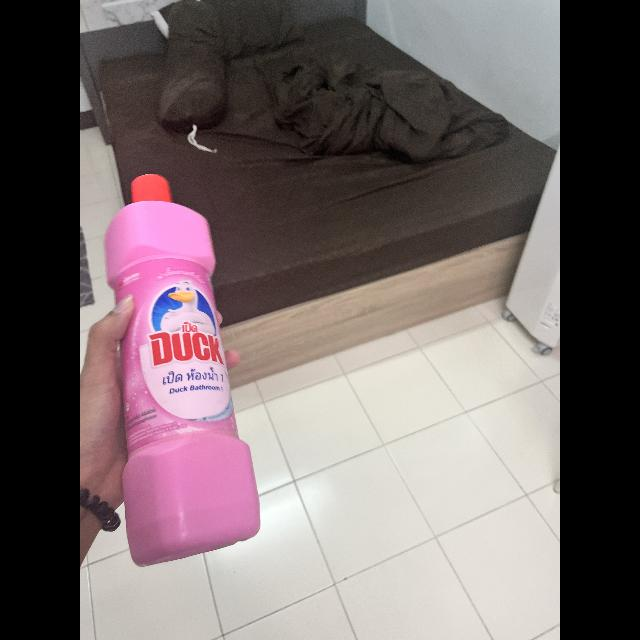chemical_plastic_bottle: (104, 167, 260, 573)
